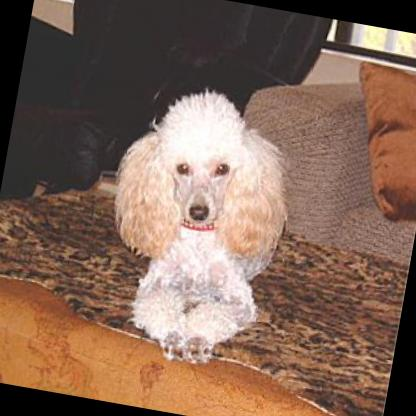miniature_poodle: (81, 72, 311, 378)
